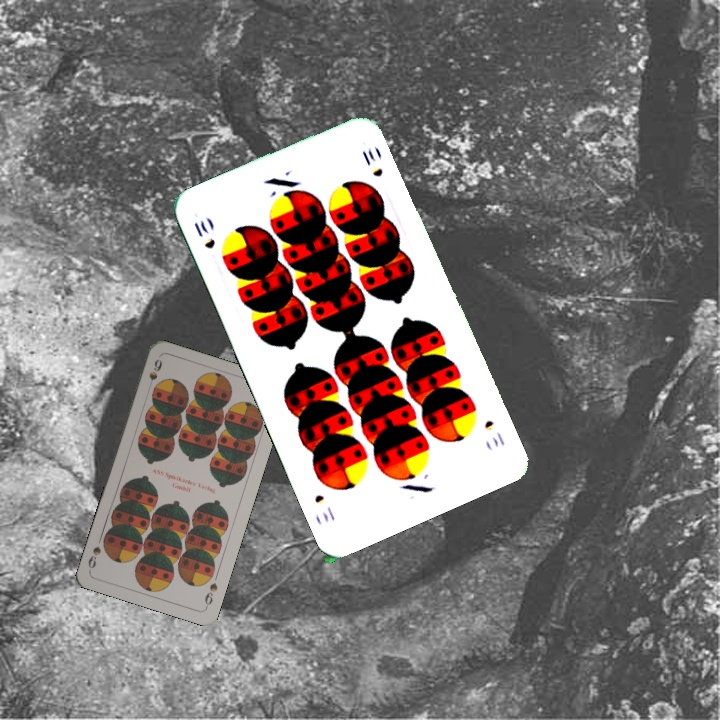S10: (190, 216, 218, 252), (480, 416, 508, 450)
S9: (144, 355, 165, 393), (201, 578, 220, 610)
